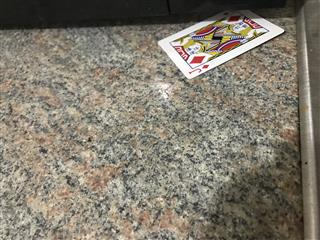JackOfDiamonds: (157, 9, 285, 79)
